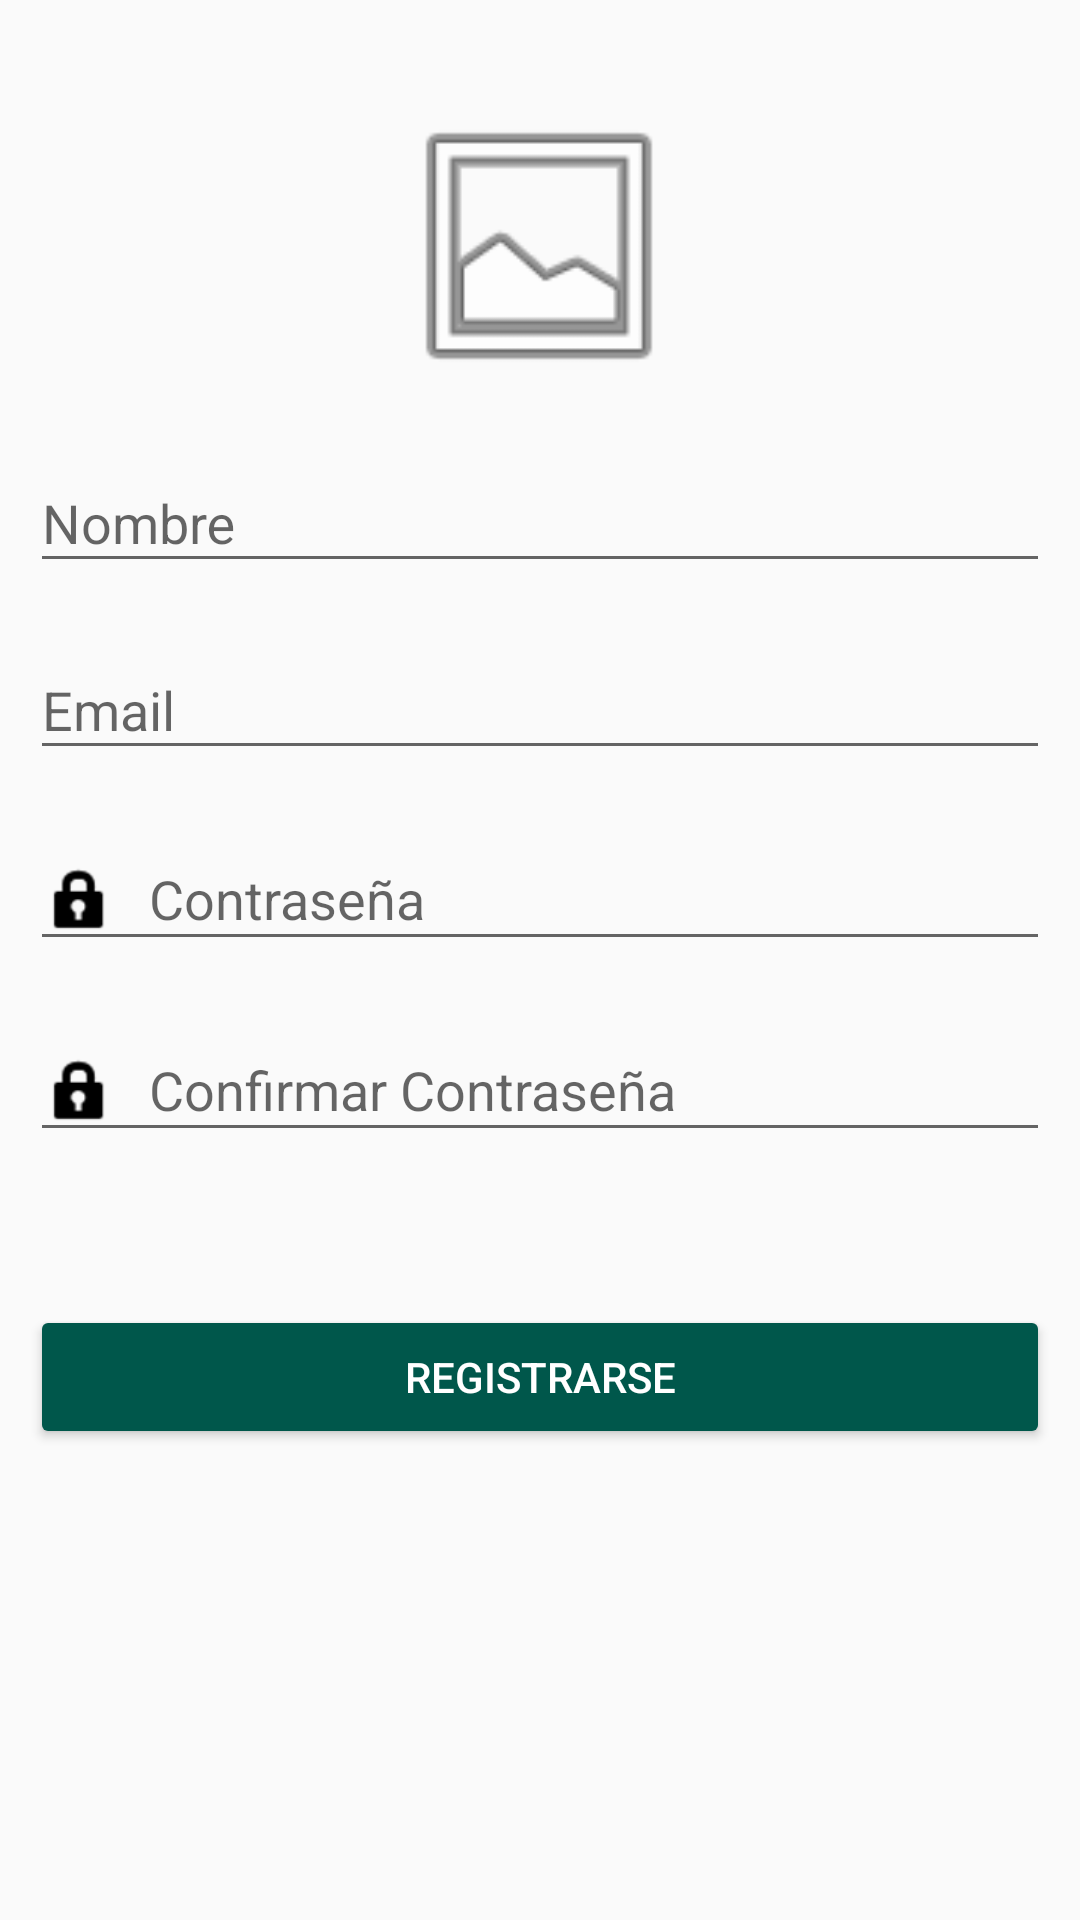

Screen size 1080px x 1920px. Icon name, then its box in pixels as BBox(x1, y1, x2, y2):
gallery: BBox(426, 133, 652, 359)
